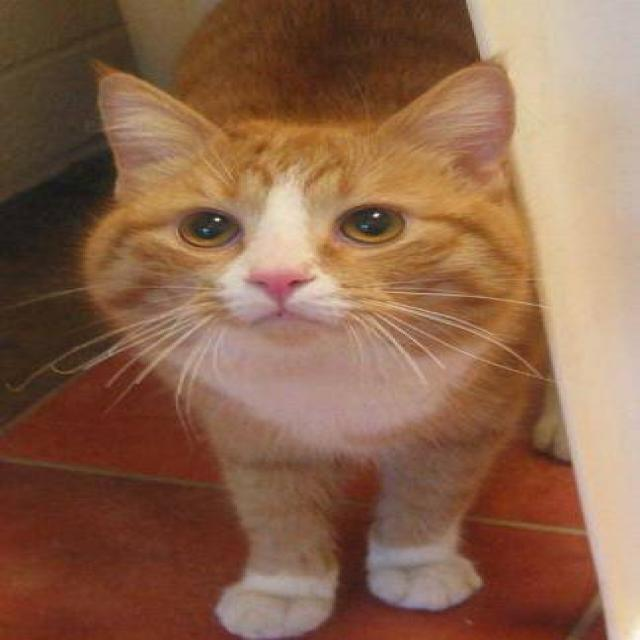cat: (2, 0, 569, 639)
